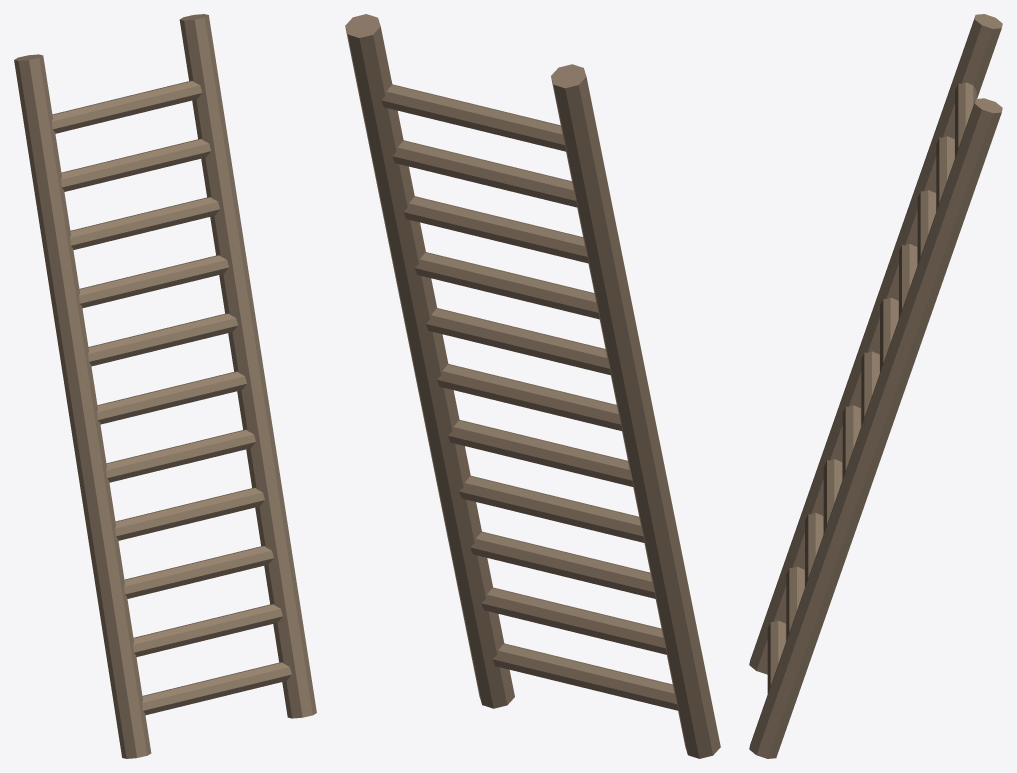
Rendered from turm_holzleiter_3m.glb.
3 views of the same model, side by side, from view 1: azimuth 30°, elevation 25°; view 2: azimuth 150°, elevation 25°; view 3: azimuth 270°, elevation 25° (orthographic). The views are drawn at different scales.
Parts seen in each view (by area): view 1: turm_holzleiter_3m_000, turm_holzleiter_3m_001, turm_holzleiter_3m_010, turm_holzleiter_3m_012, turm_holzleiter_3m_007, turm_holzleiter_3m_008, turm_holzleiter_3m_006, turm_holzleiter_3m_011, turm_holzleiter_3m_005, turm_holzleiter_3m_009, turm_holzleiter_3m_003, turm_holzleiter_3m_002 (+1 smaller); view 2: turm_holzleiter_3m_000, turm_holzleiter_3m_001, turm_holzleiter_3m_002, turm_holzleiter_3m_003, turm_holzleiter_3m_005, turm_holzleiter_3m_006, turm_holzleiter_3m_004, turm_holzleiter_3m_007, turm_holzleiter_3m_008, turm_holzleiter_3m_009, turm_holzleiter_3m_011, turm_holzleiter_3m_010 (+1 smaller); view 3: turm_holzleiter_3m_001, turm_holzleiter_3m_000, turm_holzleiter_3m_012, turm_holzleiter_3m_010, turm_holzleiter_3m_005, turm_holzleiter_3m_006, turm_holzleiter_3m_002, turm_holzleiter_3m_011, turm_holzleiter_3m_007, turm_holzleiter_3m_003, turm_holzleiter_3m_008, turm_holzleiter_3m_009 (+1 smaller).
Part boxes in pixels (x1=…): turm_holzleiter_3m_000: x1=14, y1=54, x2=151, y2=758; turm_holzleiter_3m_001: x1=179, y1=14, x2=316, y2=718; turm_holzleiter_3m_010: x1=70, y1=197, x2=219, y2=249; turm_holzleiter_3m_012: x1=52, y1=81, x2=202, y2=133; turm_holzleiter_3m_007: x1=97, y1=371, x2=246, y2=424; turm_holzleiter_3m_008: x1=88, y1=313, x2=237, y2=366; turm_holzleiter_3m_006: x1=106, y1=429, x2=255, y2=482; turm_holzleiter_3m_011: x1=61, y1=139, x2=210, y2=191; turm_holzleiter_3m_005: x1=115, y1=488, x2=264, y2=540; turm_holzleiter_3m_009: x1=79, y1=255, x2=228, y2=308; turm_holzleiter_3m_003: x1=133, y1=604, x2=282, y2=656; turm_holzleiter_3m_002: x1=142, y1=662, x2=291, y2=715; turm_holzleiter_3m_000: x1=551, y1=64, x2=720, y2=758; turm_holzleiter_3m_001: x1=345, y1=14, x2=514, y2=708; turm_holzleiter_3m_002: x1=492, y1=643, x2=678, y2=710; turm_holzleiter_3m_003: x1=481, y1=587, x2=667, y2=654; turm_holzleiter_3m_005: x1=459, y1=475, x2=644, y2=542; turm_holzleiter_3m_006: x1=448, y1=420, x2=633, y2=486; turm_holzleiter_3m_004: x1=470, y1=531, x2=655, y2=598; turm_holzleiter_3m_007: x1=437, y1=364, x2=622, y2=431; turm_holzleiter_3m_008: x1=426, y1=308, x2=611, y2=375; turm_holzleiter_3m_009: x1=414, y1=252, x2=599, y2=319; turm_holzleiter_3m_011: x1=392, y1=140, x2=577, y2=207; turm_holzleiter_3m_010: x1=403, y1=196, x2=588, y2=263; turm_holzleiter_3m_001: x1=749, y1=98, x2=1002, y2=758; turm_holzleiter_3m_000: x1=749, y1=14, x2=1002, y2=674; turm_holzleiter_3m_012: x1=955, y1=82, x2=976, y2=157; turm_holzleiter_3m_010: x1=917, y1=190, x2=936, y2=264; turm_holzleiter_3m_005: x1=823, y1=459, x2=842, y2=533; turm_holzleiter_3m_006: x1=842, y1=405, x2=861, y2=478; turm_holzleiter_3m_002: x1=767, y1=620, x2=786, y2=693; turm_holzleiter_3m_011: x1=936, y1=136, x2=954, y2=210; turm_holzleiter_3m_007: x1=861, y1=351, x2=879, y2=425; turm_holzleiter_3m_003: x1=786, y1=566, x2=804, y2=640; turm_holzleiter_3m_008: x1=880, y1=297, x2=898, y2=372; turm_holzleiter_3m_009: x1=899, y1=244, x2=917, y2=317.
Size of the model in its own units: 0.9639 by 3.04 by 1.07.
